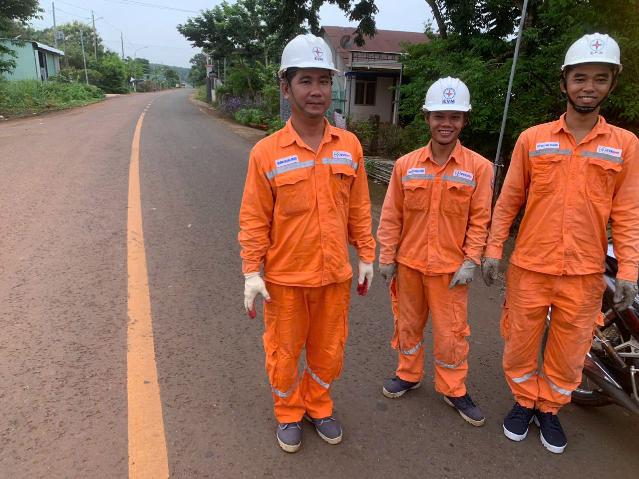gloves: (226, 263, 282, 324), (606, 254, 637, 320), (351, 238, 377, 308), (454, 241, 482, 300), (379, 238, 408, 291), (481, 237, 504, 292)
helmet: (259, 28, 356, 93), (550, 27, 635, 88), (410, 79, 484, 125)
shoes: (305, 399, 363, 454), (441, 384, 492, 444), (259, 400, 307, 461), (541, 400, 581, 467), (380, 363, 431, 413), (502, 389, 537, 453)
